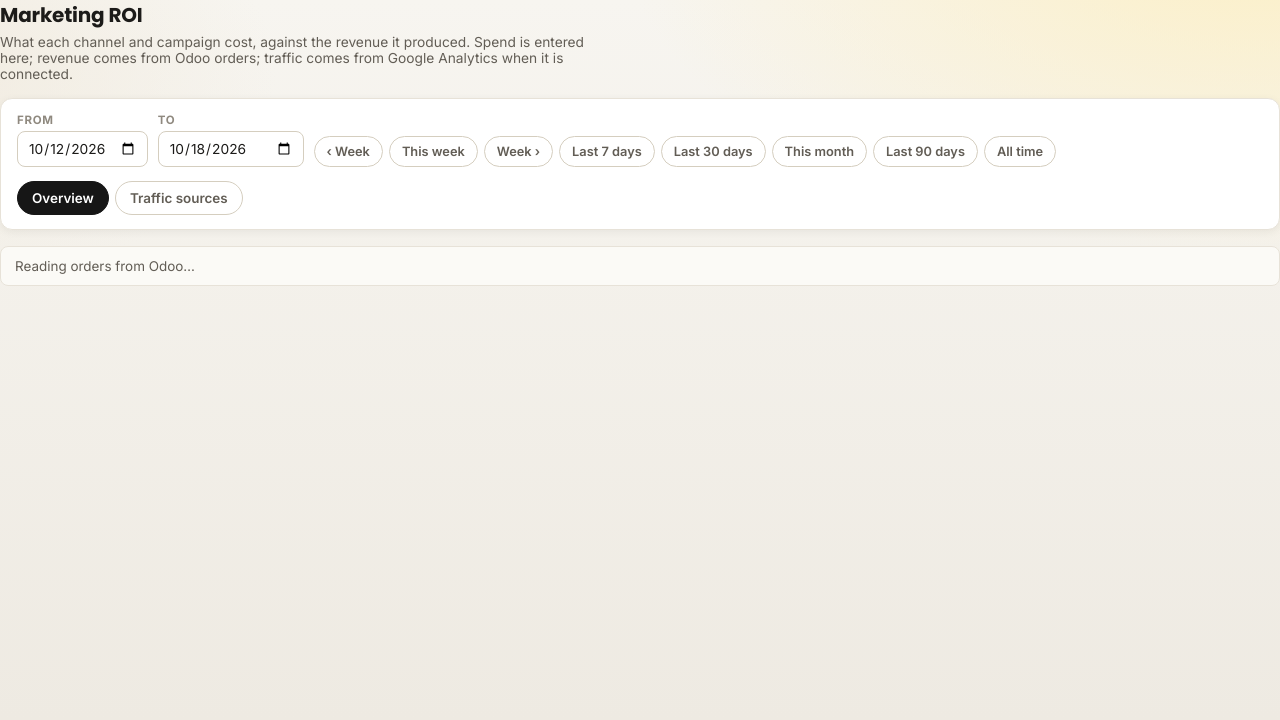
it: lists every utm_source with its visits, its people and its share
Click the button "Traffic sources".
click(179, 198)  # box top-left (115, 181), bottom-right (243, 215)
(page scrolled)
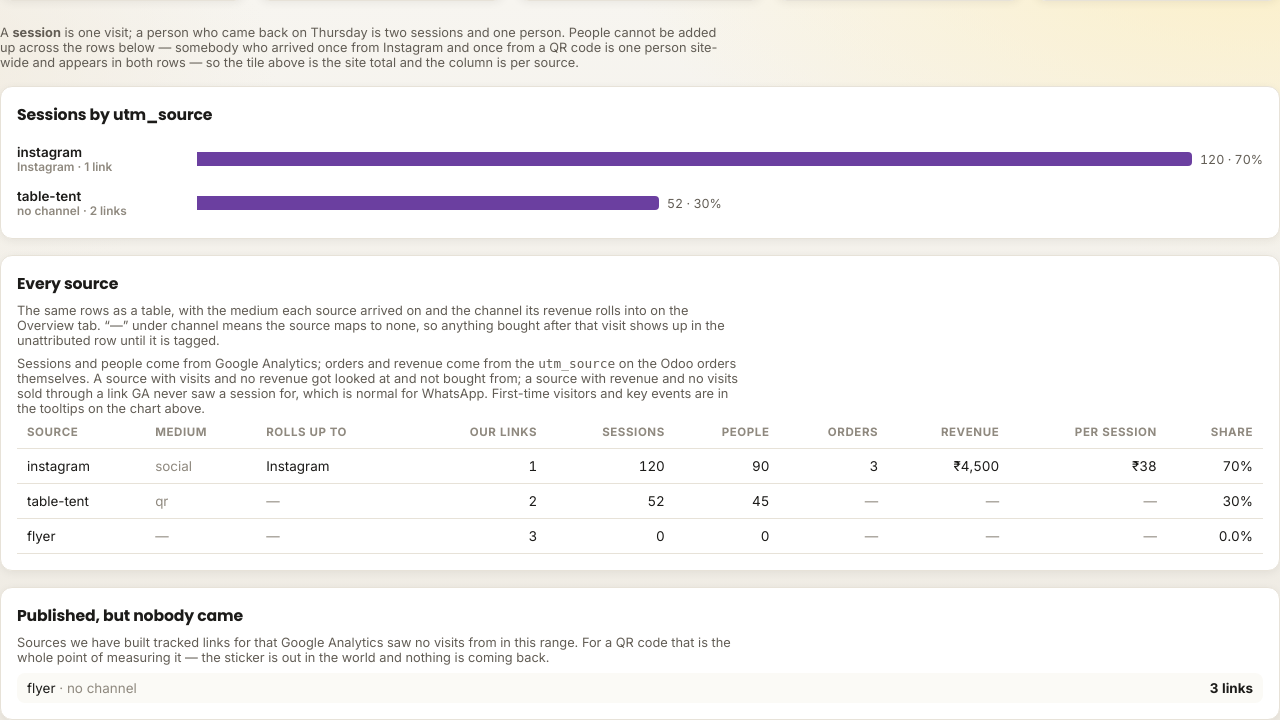
Expected: the text "120" is shown, top-left (547, 448), bottom-right (675, 484)
Expected: the text "90" is shown, top-left (675, 448), bottom-right (780, 484)
Expected: the text "70%" is shown, top-left (1167, 448), bottom-right (1263, 484)
